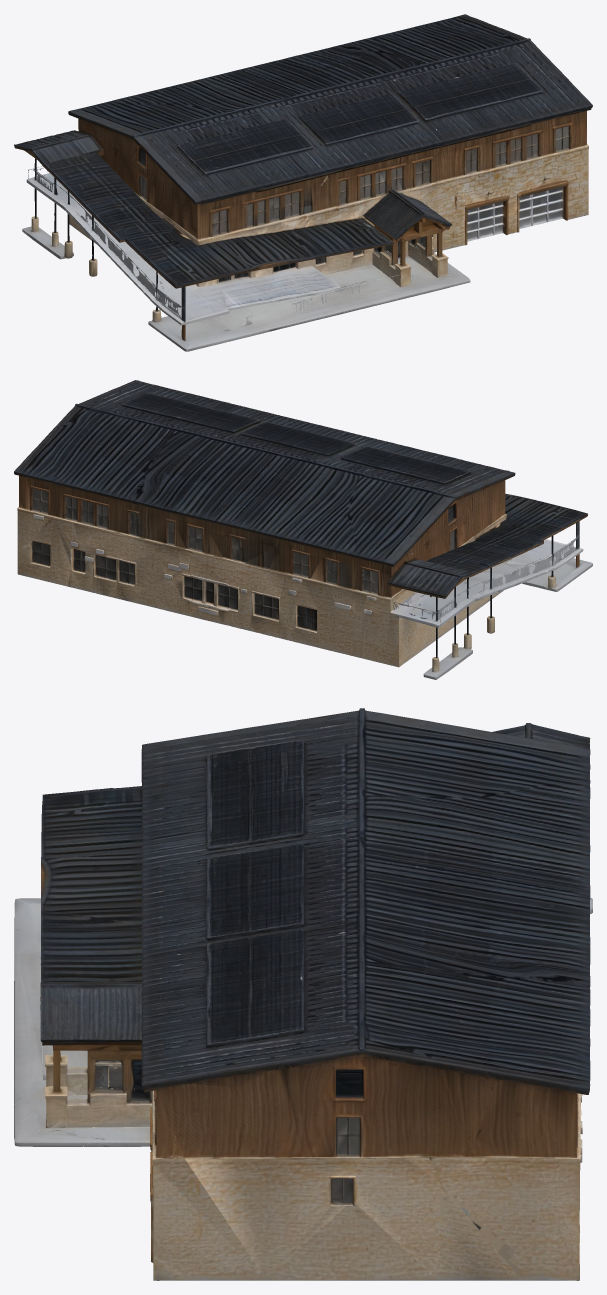
The model's file is crosswalk.glb.
The picture shows the model from 3 angles, top to bottom: view 1: azimuth 30°, elevation 25°; view 2: azimuth 150°, elevation 25°; view 3: azimuth 270°, elevation 25°; orthographic projection. The views are drawn at different scales.
Parts seen in each view (by area): view 1: model; view 2: model; view 3: model.
Boxes of the visible parts, box(x1,y1,x2,y2) form: model: box(14, 14, 592, 351); model: box(14, 380, 592, 679); model: box(14, 708, 592, 1280).
Bounding box in the file's own units: 1.89 × 0.5343 × 1.2.
1 material, 1 textured.
